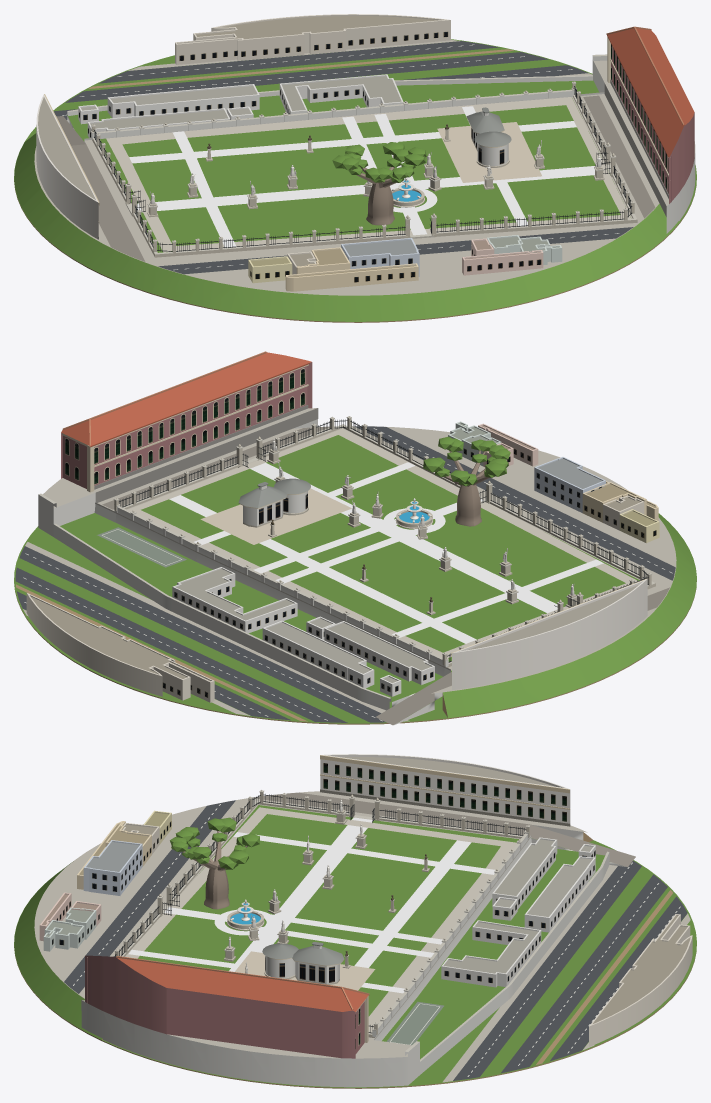
The model's file is passeioPublico-praca.glb.
3 views of the same model, one above another, from view 1: azimuth 30°, elevation 25°; view 2: azimuth 150°, elevation 25°; view 3: azimuth 270°, elevation 25° (orthographic).
Parts seen in each view (by area): view 1: Chao_Praca, Chao_Colina, Ruas_Entorno, Casario_Vizinho, Predios_Avenida, Predios_Exercito, Gradil_Passeio, Chao_Base, Muro_Caio_Prado, Quartel_Forte_Telhado, Santa_Casa, Chao_Segundo_Plano (+7 smaller); view 2: Chao_Praca, Ruas_Entorno, Chao_Colina, Quartel_Forte, Muro_Caio_Prado, Predios_Exercito, Santa_Casa, Chao_Base, Predios_Avenida, Casario_Vizinho, Quartel_Forte_Telhado, Gradil_Passeio (+8 smaller); view 3: Chao_Praca, Ruas_Entorno, Quartel_Forte, Chao_Colina, Santa_Casa, Chao_Plato_Forte, Predios_Exercito, Chao_Base, Casario_Vizinho, Muro_Caio_Prado, Chao_Segundo_Plano, Quartel_Forte_Telhado (+9 smaller).
Part boxes in pixels (x1,y1,x2,y2): Chao_Praca: [100, 97, 630, 252]; Chao_Colina: [14, 94, 679, 321]; Ruas_Entorno: [54, 39, 655, 274]; Casario_Vizinho: [248, 235, 562, 291]; Predios_Avenida: [175, 14, 450, 64]; Predios_Exercito: [78, 74, 403, 138]; Gradil_Passeio: [91, 81, 637, 257]; Chao_Base: [14, 39, 696, 322]; Muro_Caio_Prado: [67, 75, 604, 143]; Quartel_Forte_Telhado: [606, 26, 694, 157]; Santa_Casa: [36, 94, 99, 239]; Chao_Segundo_Plano: [67, 80, 599, 141]; Chao_Praca: [127, 428, 639, 661]; Ruas_Entorno: [15, 426, 675, 722]; Chao_Colina: [97, 426, 696, 718]; Quartel_Forte: [61, 362, 312, 492]; Muro_Caio_Prado: [53, 502, 450, 710]; Predios_Exercito: [172, 567, 434, 696]; Santa_Casa: [451, 578, 647, 690]; Chao_Base: [14, 513, 696, 724]; Predios_Avenida: [26, 593, 214, 702]; Casario_Vizinho: [448, 421, 659, 542]; Quartel_Forte_Telhado: [61, 351, 311, 447]; Gradil_Passeio: [113, 416, 655, 667]; Chao_Praca: [126, 805, 518, 1032]; Ruas_Entorno: [64, 800, 690, 1082]; Quartel_Forte: [85, 955, 368, 1058]; Chao_Colina: [14, 791, 593, 1039]; Santa_Casa: [320, 754, 570, 826]; Chao_Plato_Forte: [81, 1000, 419, 1087]; Predios_Exercito: [441, 837, 595, 987]; Chao_Base: [14, 840, 696, 1088]; Casario_Vizinho: [39, 810, 171, 951]; Muro_Caio_Prado: [372, 830, 609, 1074]; Chao_Segundo_Plano: [382, 849, 604, 1059]; Quartel_Forte_Telhado: [116, 956, 369, 1011].
Bounding box in the file's own units: 66.79 × 9.75 × 66.79.
28 materials, 1 textured.
